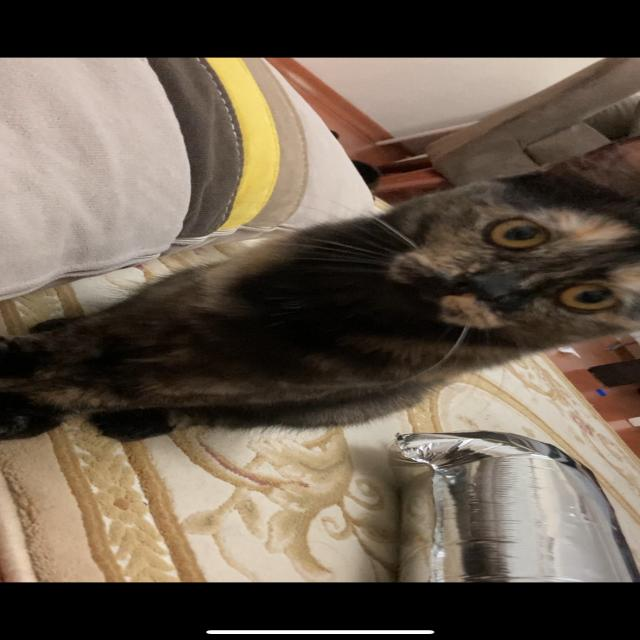authorized: (1, 135, 638, 443)
